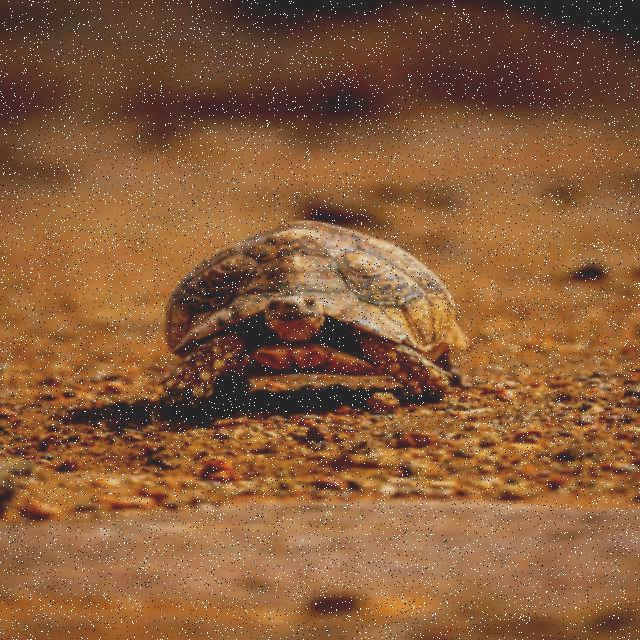tortoise: (155, 219, 469, 441)
